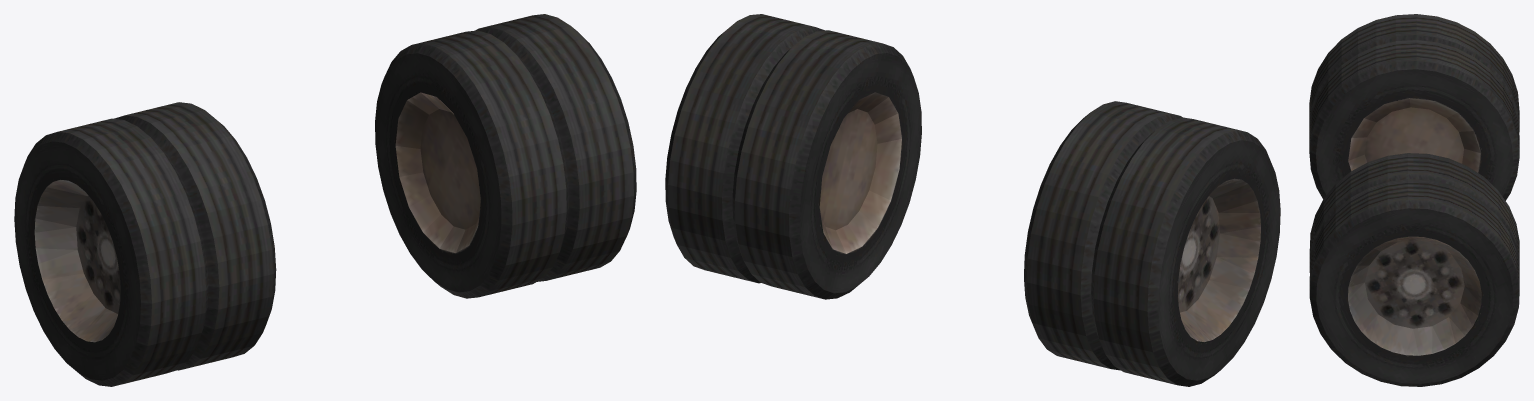
Rendered from BackWheels2.obj.
3 views of the same model, side by side, from view 1: azimuth 30°, elevation 25°; view 2: azimuth 150°, elevation 25°; view 3: azimuth 270°, elevation 25° (orthographic). The views are drawn at different scales.
Parts seen in each view (by area): view 1: DrawCall_0820, DrawCall_0821; view 2: DrawCall_0820, DrawCall_0821; view 3: DrawCall_0820, DrawCall_0821.
Part boxes in pixels (left/top/right/bottom): DrawCall_0820: left=375, top=14, right=636, bottom=298; DrawCall_0821: left=14, top=102, right=276, bottom=386; DrawCall_0820: left=665, top=14, right=921, bottom=299; DrawCall_0821: left=1024, top=101, right=1280, bottom=386; DrawCall_0820: left=1309, top=153, right=1519, bottom=386; DrawCall_0821: left=1309, top=14, right=1519, bottom=200.
Size of the model in its own units: 2.55 by 1.16 by 1.18.
Materials: 1 (1 with a texture image).
